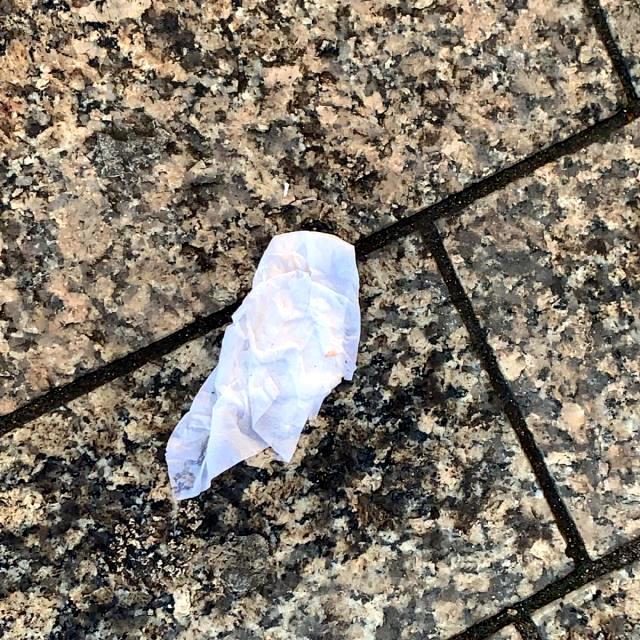Paper: (164, 229, 363, 503)
